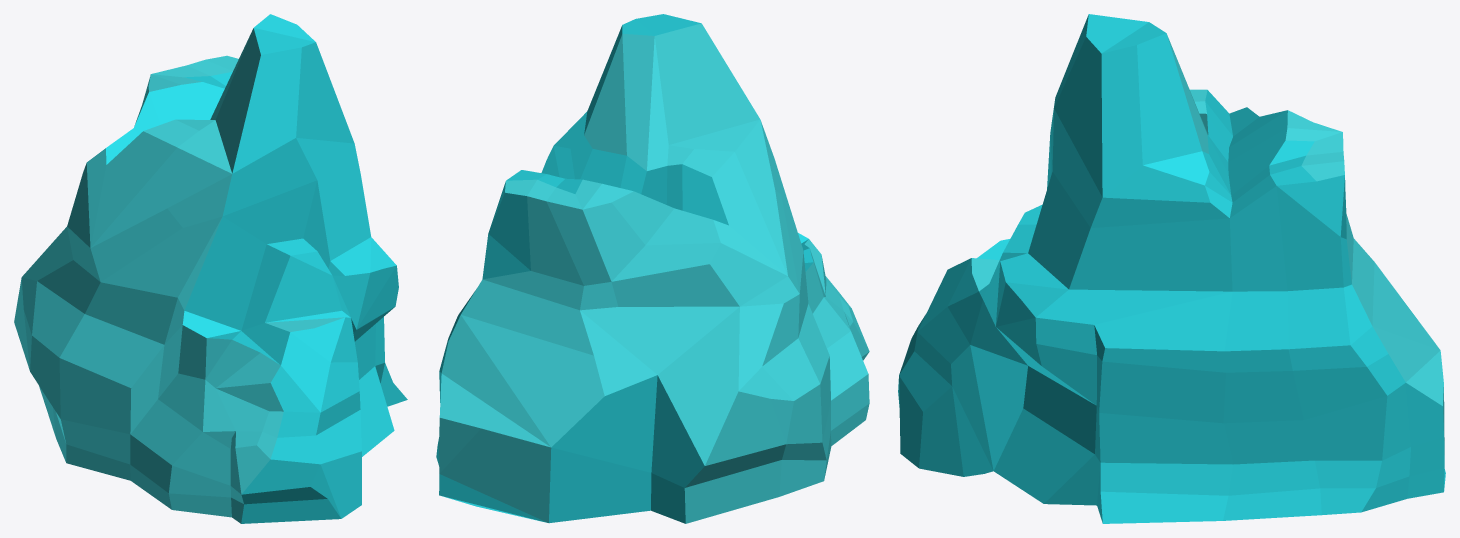
Rendered from iceberg3.fbx.
The picture shows the model from 3 angles, left to right: view 1: azimuth 30°, elevation 25°; view 2: azimuth 150°, elevation 25°; view 3: azimuth 270°, elevation 25°; orthographic projection. The views are drawn at different scales.
Parts seen in each view (by area): view 1: polySurface1; view 2: polySurface1; view 3: polySurface1.
Boxes of the visible parts, x1=… form: polySurface1: x1=14, y1=14, x2=407, y2=523; polySurface1: x1=436, y1=14, x2=869, y2=523; polySurface1: x1=898, y1=14, x2=1445, y2=523.
Bounding box in the file's own units: 40.94 × 50.4 × 55.95.
